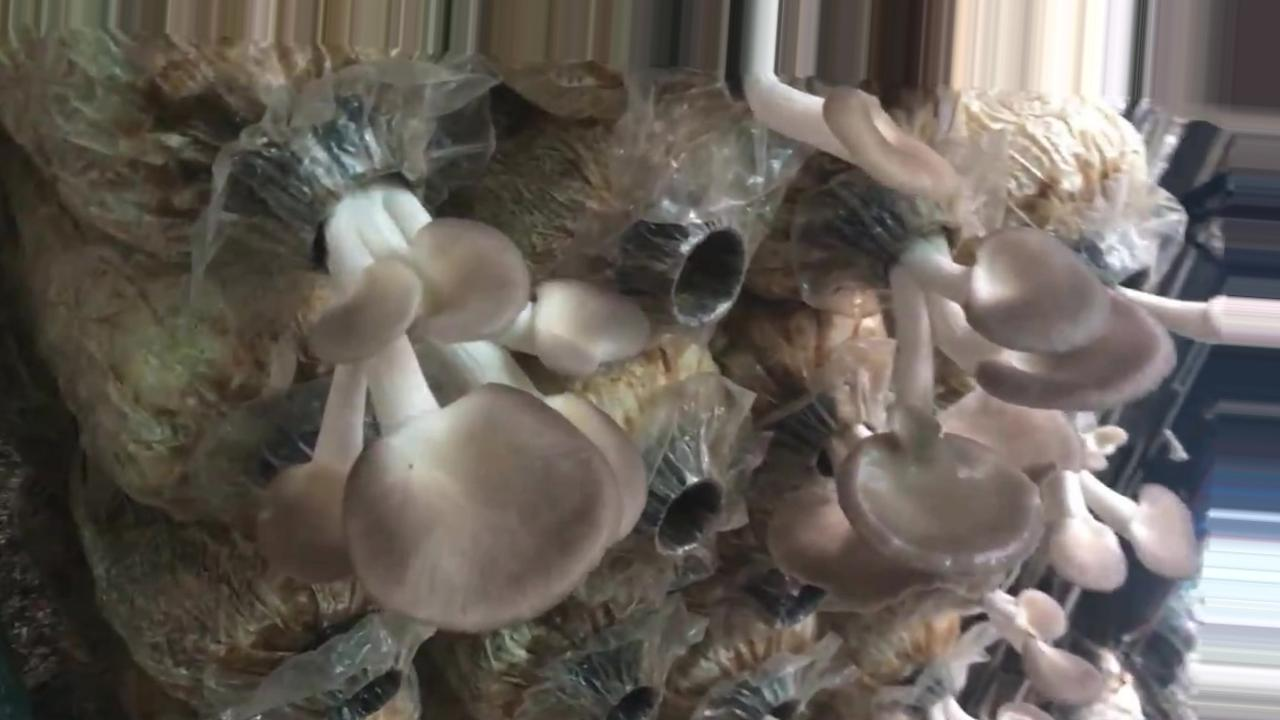nam: (256, 152, 646, 631), (839, 203, 1280, 579), (738, 1, 973, 200), (1034, 424, 1199, 591), (768, 487, 939, 613), (975, 580, 1103, 700)
